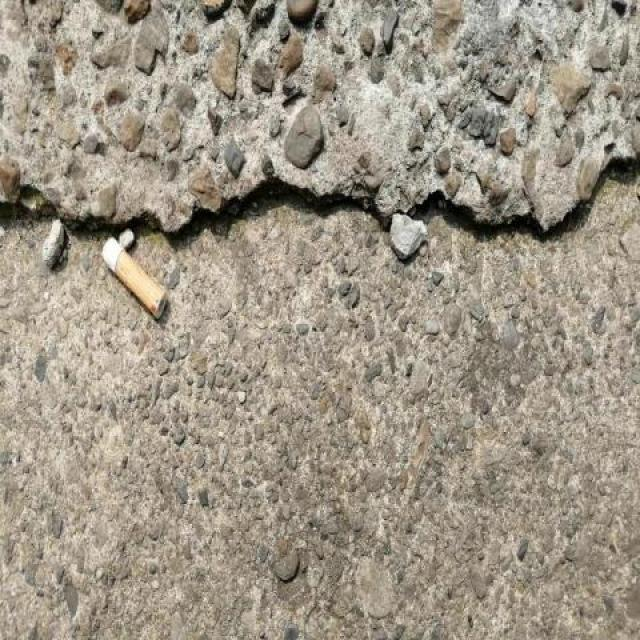non-organic waste: (97, 233, 171, 324)
